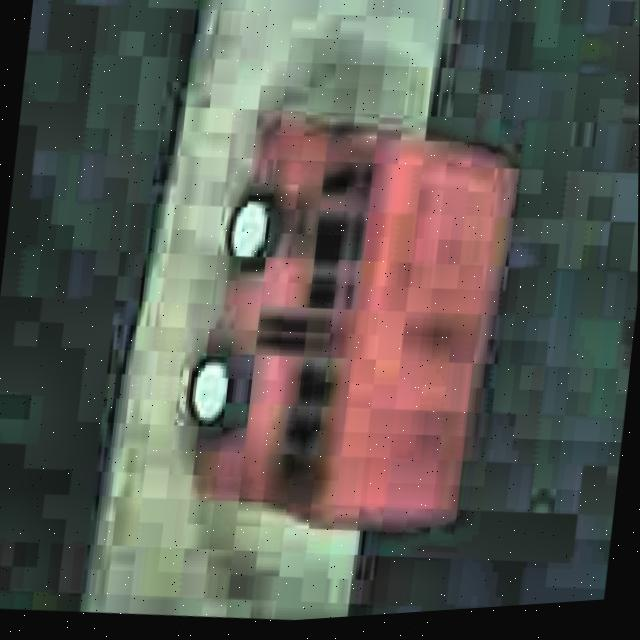bus: (172, 89, 534, 555)
